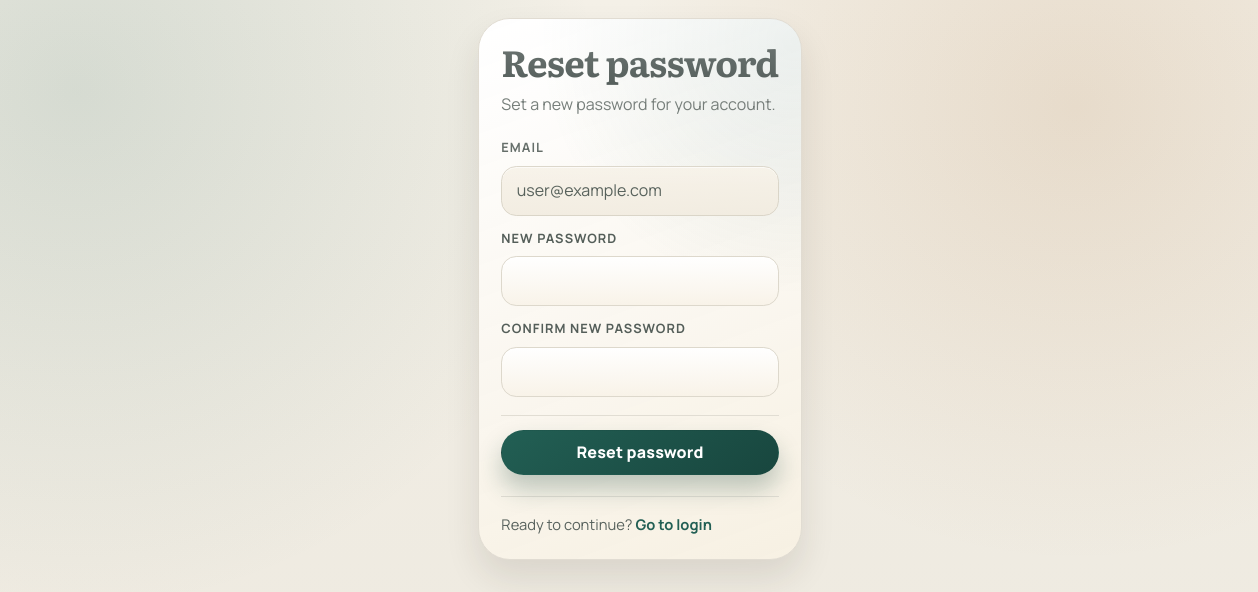
Test: ResetPasswordPage › reads email and token from URL and submits reset payload
Expected: the field showing "user@example.com" is disabled, [501,166,779,216]
Type "Password123" into the password field labelled "New password" at (640, 281), box [501,256,779,306]
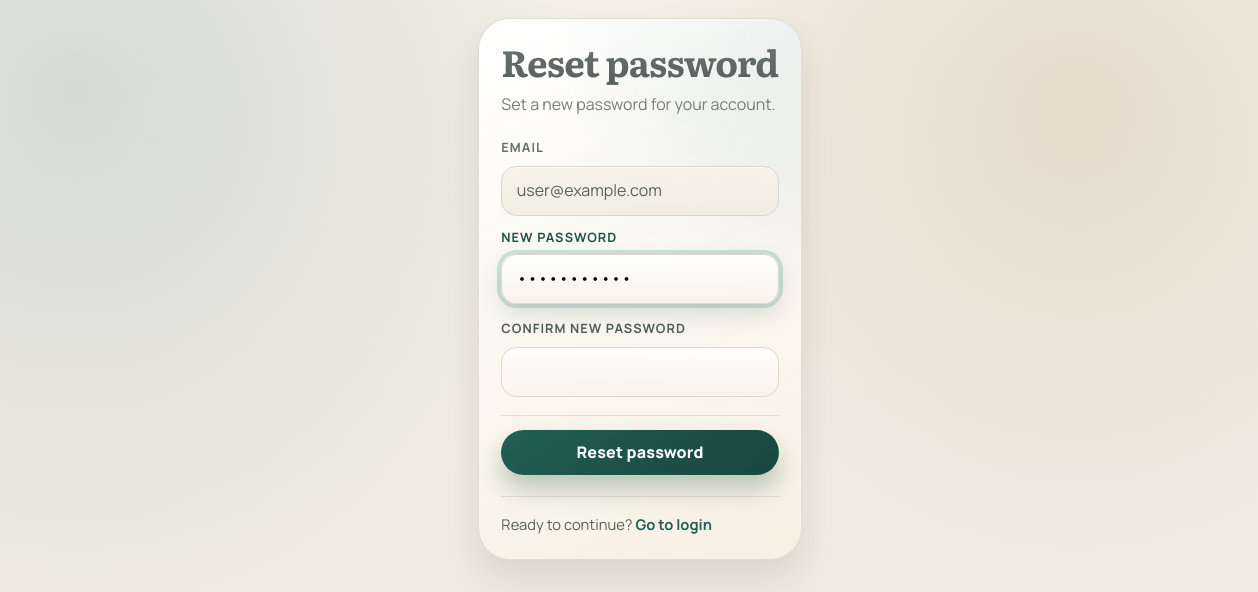
Type "Password123" into the password field labelled "Confirm new password" at (640, 372), box [501,347,779,397]
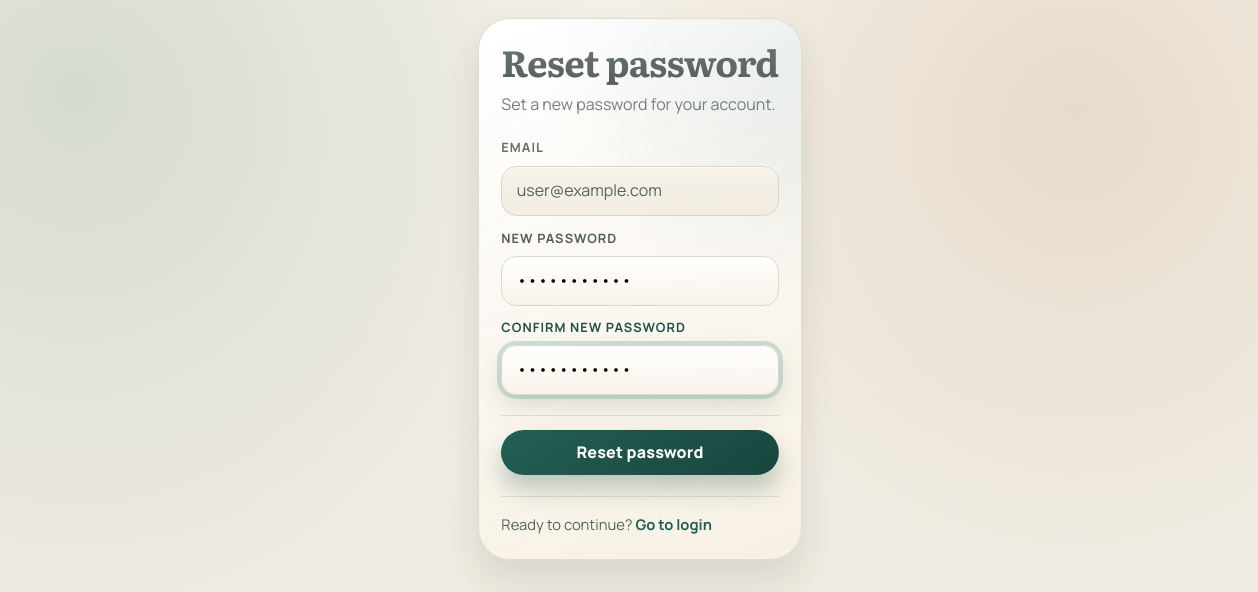
Click the button "Reset password" at (640, 452), box [501,430,779,475]
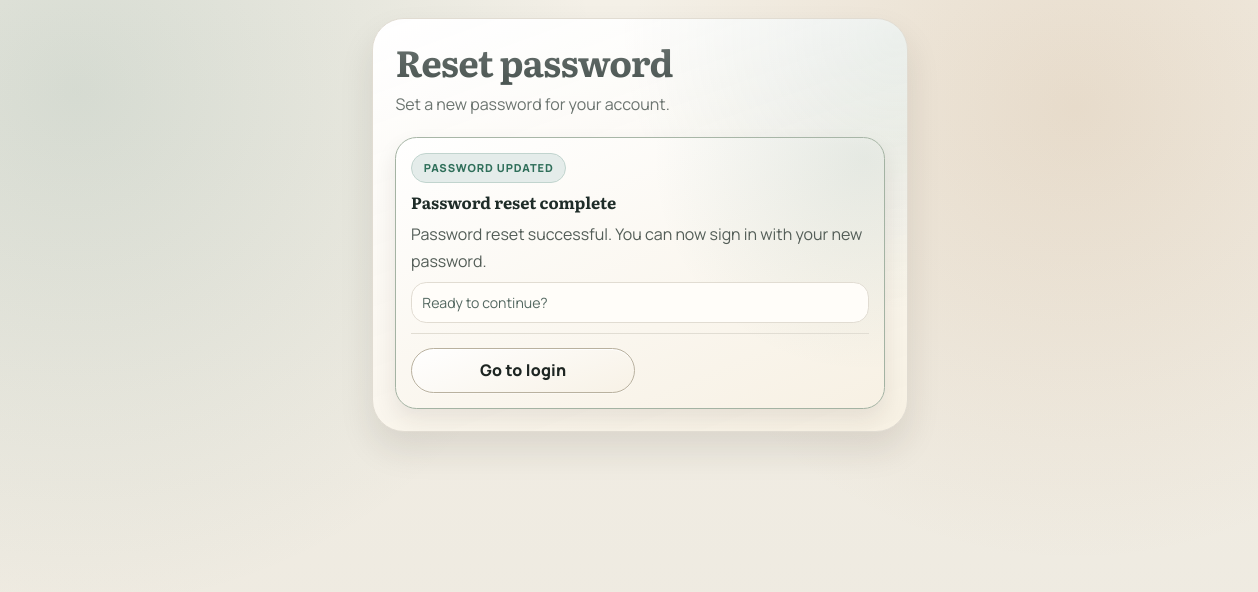
Expected: the text "Password reset complete" is shown, [411,190,616,214]
Expected: the text "Password reset successful. You can now sign in with your new password." is shown, [411,221,869,274]
Expected: the button "Go to login" is shown, [411,348,635,393]
